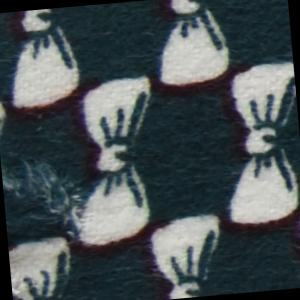Damage: (1, 135, 104, 254)
